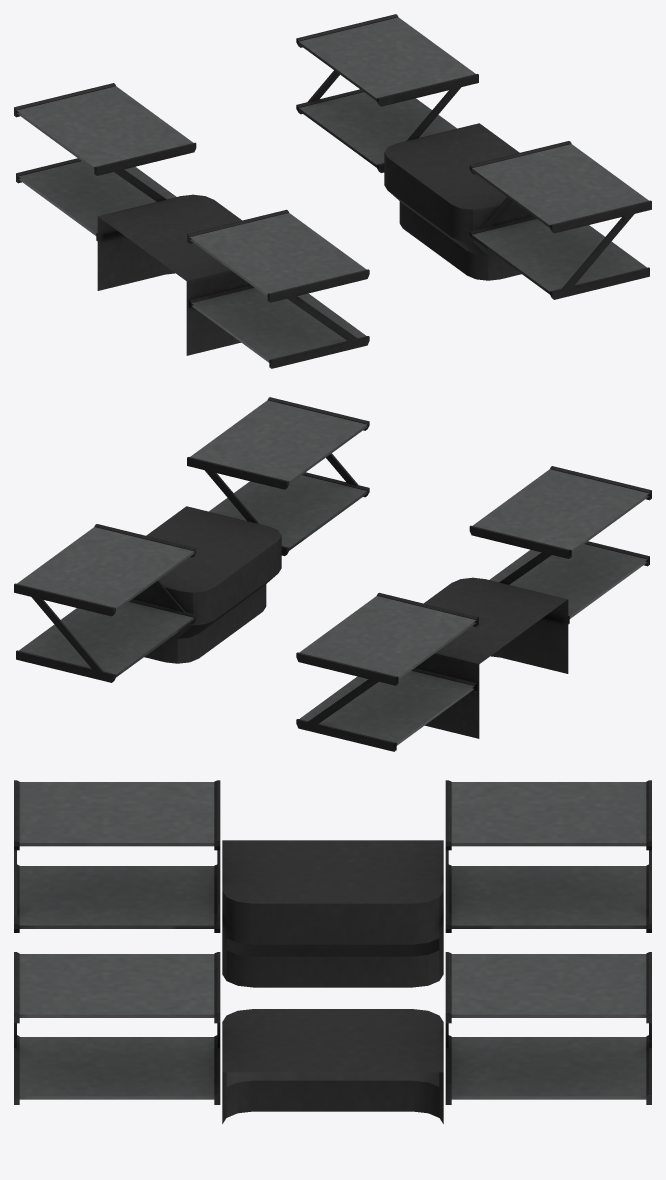
Rendered from storage_layout.fbx.
The picture shows the model from 3 angles, top to bottom: view 1: azimuth 30°, elevation 25°; view 2: azimuth 150°, elevation 25°; view 3: azimuth 270°, elevation 25°; orthographic projection. The views are drawn at different scales.
Parts seen in each view (by area): view 1: cabin.004; view 2: cabin.004; view 3: cabin.004.
Boxes of the visible parts, <box> form: cabin.004: <box>14,14,651,368</box>; cabin.004: <box>14,397,651,751</box>; cabin.004: <box>14,780,651,1123</box>.
Size of the model in its own units: 4.53 by 1.39 by 5.25.
